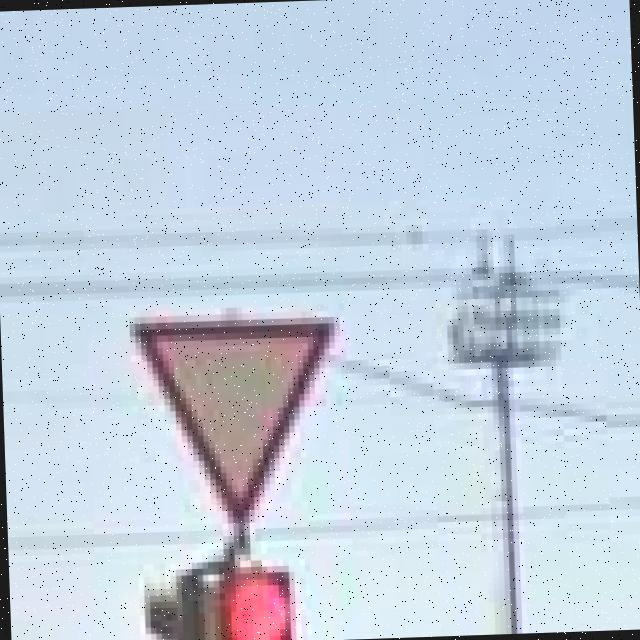Ustap pierwszenstwa: (130, 316, 340, 526)
